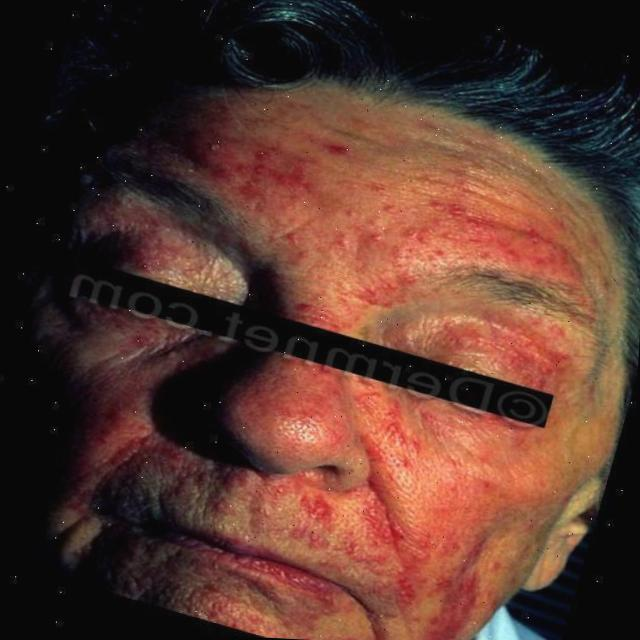skinredness: (20, 85, 562, 640)
